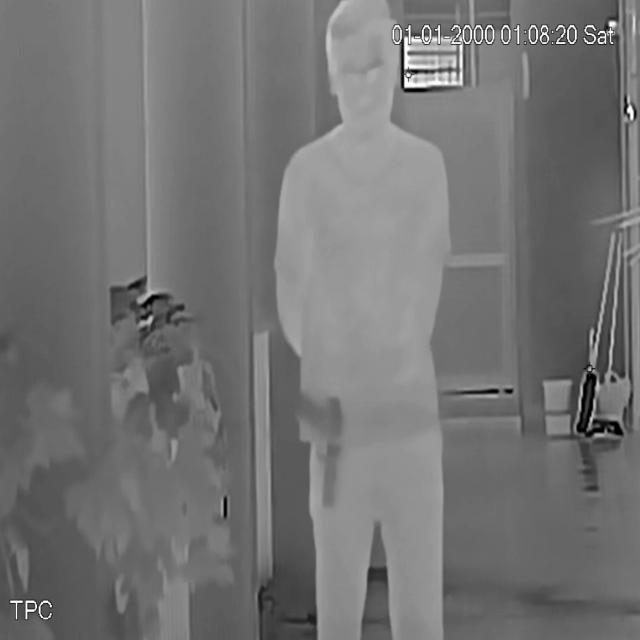Weapon: (294, 383, 364, 520)
